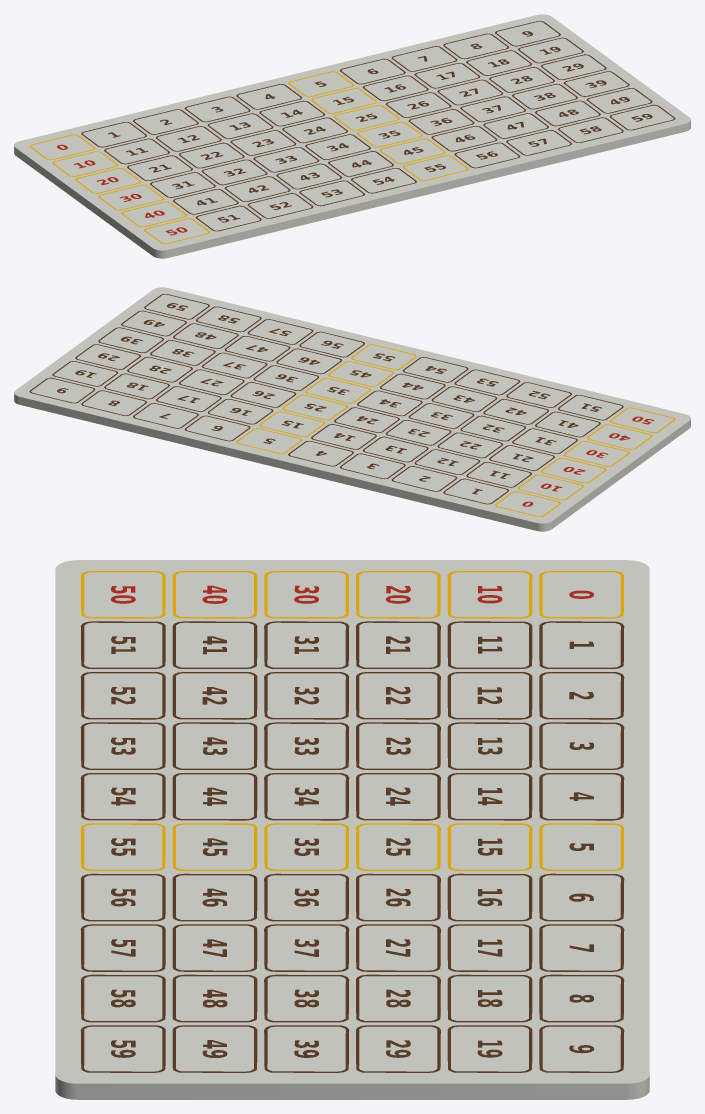
The model's file is ruhm_leiste.glb.
3 renders of one model, top to bottom at view 1: azimuth 30°, elevation 25°; view 2: azimuth 150°, elevation 25°; view 3: azimuth 270°, elevation 25°, orthographic. The views are drawn at different scales.
Parts seen in each view (by area): view 1: ruhm_leiste; view 2: ruhm_leiste; view 3: ruhm_leiste.
Boxes of the visible parts, x1=… form: ruhm_leiste: x1=14, y1=14, x2=690, y2=258; ruhm_leiste: x1=14, y1=287, x2=690, y2=531; ruhm_leiste: x1=55, y1=560, x2=649, y2=1099.
Bounding box in the file's own units: 223 × 3.2 × 107.
